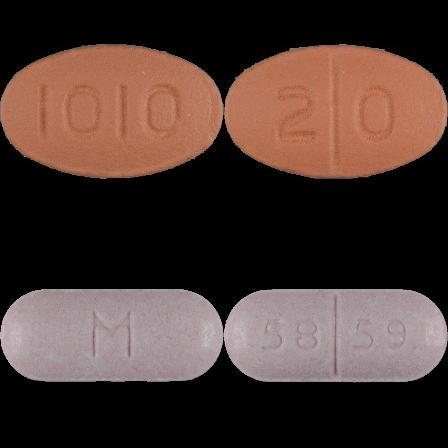68788-0802: (0, 0, 224, 224)
